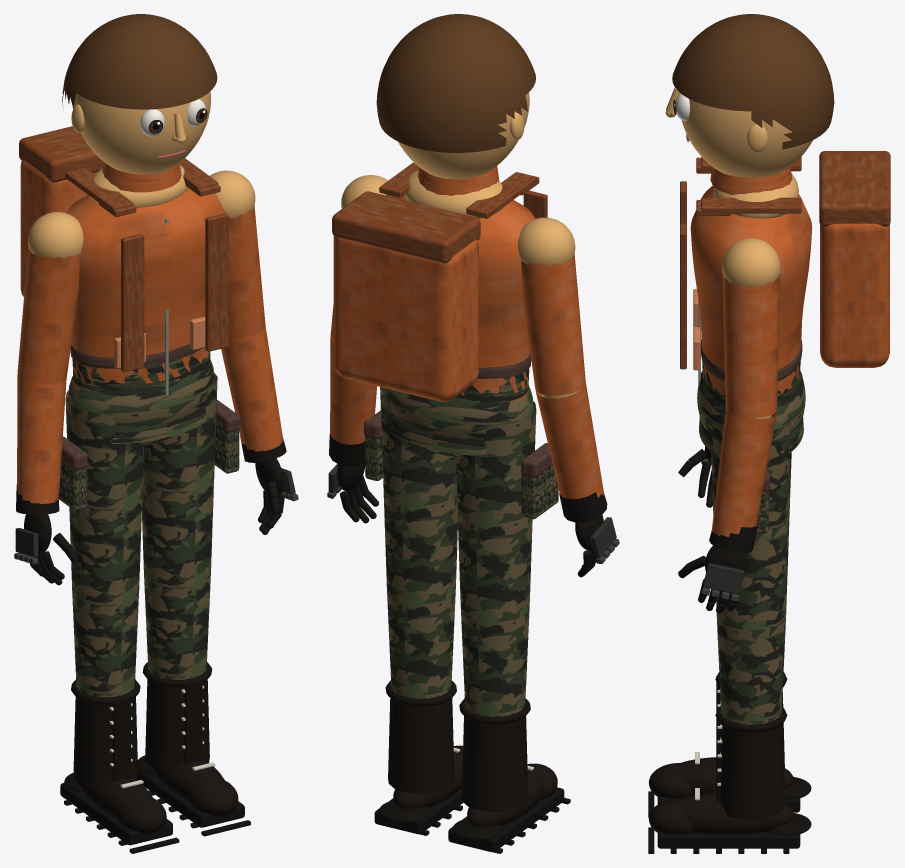
The model's file is 03-sac-d-assaut.glb.
3 renders of one model, left to right at view 1: azimuth 30°, elevation 25°; view 2: azimuth 150°, elevation 25°; view 3: azimuth 270°, elevation 25°, orthographic. The views are drawn at different scales.
Size of the model in its own units: 0.6344 by 1.77 by 0.4841.
Materials: 26 (5 with a texture image).
